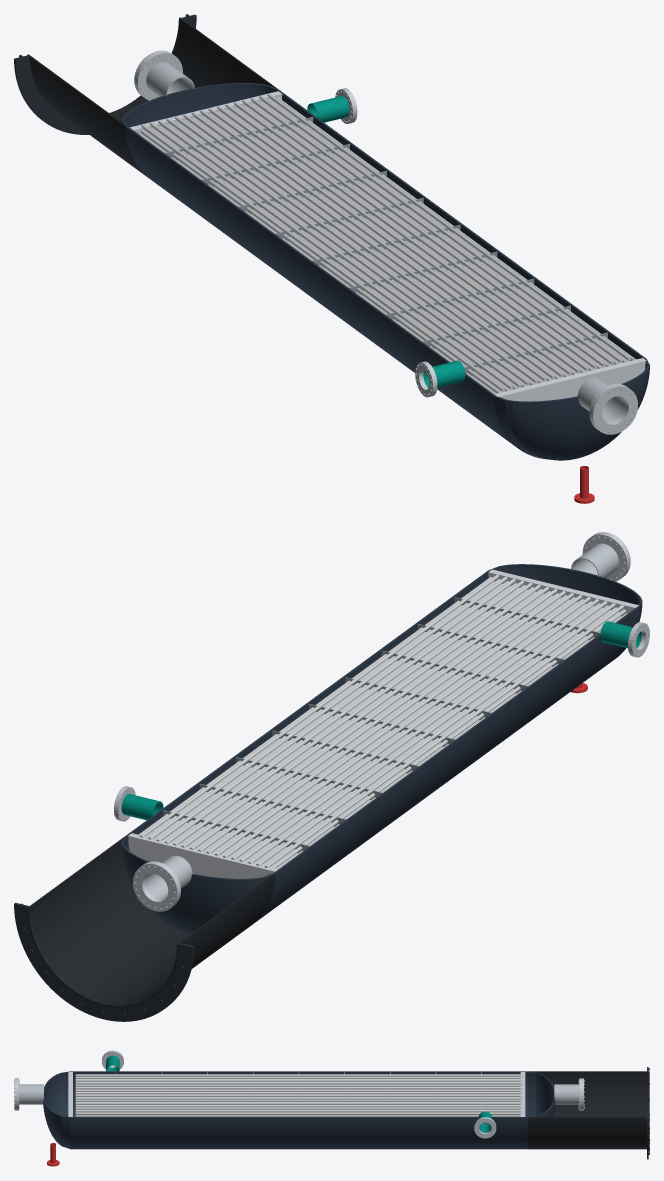
The model's file is R201_Reactor_Cutaway_Internal_PBR.glb.
The picture shows the model from 3 angles, top to bottom: view 1: azimuth 30°, elevation 25°; view 2: azimuth 150°, elevation 25°; view 3: azimuth 270°, elevation 25°; orthographic projection. The views are drawn at different scales.
Visible parts, largest first — view 1: geometry_5, geometry_0, geometry_1, geometry_15, geometry_16, geometry_3, geometry_2, geometry_18, geometry_19, geometry_17, geometry_20, geometry_4 (+2 smaller); view 2: geometry_5, geometry_1, geometry_0, geometry_2, geometry_16, geometry_4, geometry_15, geometry_20, geometry_3, geometry_17, geometry_19, geometry_18 (+2 smaller); view 3: geometry_5, geometry_0, geometry_1, geometry_15, geometry_16, geometry_19, geometry_17, geometry_22, geometry_3, geometry_24, geometry_23, geometry_4 (+1 smaller).
Part boxes in pixels (x1,y1,x2,y2): geometry_5: (140, 93, 635, 393); geometry_0: (125, 89, 646, 445); geometry_1: (27, 17, 277, 176); geometry_15: (492, 358, 649, 460); geometry_16: (122, 83, 279, 174); geometry_3: (494, 358, 646, 401); geometry_2: (14, 14, 196, 134); geometry_18: (589, 383, 637, 434); geometry_19: (146, 62, 194, 96); geometry_17: (577, 378, 625, 422); geometry_20: (134, 50, 182, 100); geometry_4: (130, 91, 282, 137); geometry_5: (139, 574, 626, 868); geometry_1: (27, 837, 275, 1007); geometry_0: (124, 570, 639, 922); geometry_2: (14, 902, 194, 1021); geometry_16: (121, 836, 276, 934); geometry_4: (128, 833, 278, 878); geometry_15: (489, 564, 642, 655); geometry_20: (133, 861, 180, 911); geometry_3: (488, 569, 638, 616); geometry_17: (571, 543, 618, 577); geometry_19: (145, 855, 192, 899); geometry_18: (582, 532, 630, 581); geometry_5: (75, 1074, 522, 1116); geometry_0: (70, 1071, 527, 1149); geometry_1: (527, 1071, 649, 1149); geometry_15: (43, 1071, 73, 1148); geometry_16: (525, 1071, 555, 1147); geometry_19: (554, 1084, 579, 1104); geometry_17: (19, 1084, 43, 1104); geometry_22: (474, 1117, 496, 1138); geometry_3: (68, 1072, 72, 1116); geometry_24: (102, 1050, 123, 1069); geometry_23: (106, 1055, 119, 1071); geometry_4: (520, 1072, 525, 1116).
Bounding box in the file's own units: 3.24 × 1.86 × 12.72.
